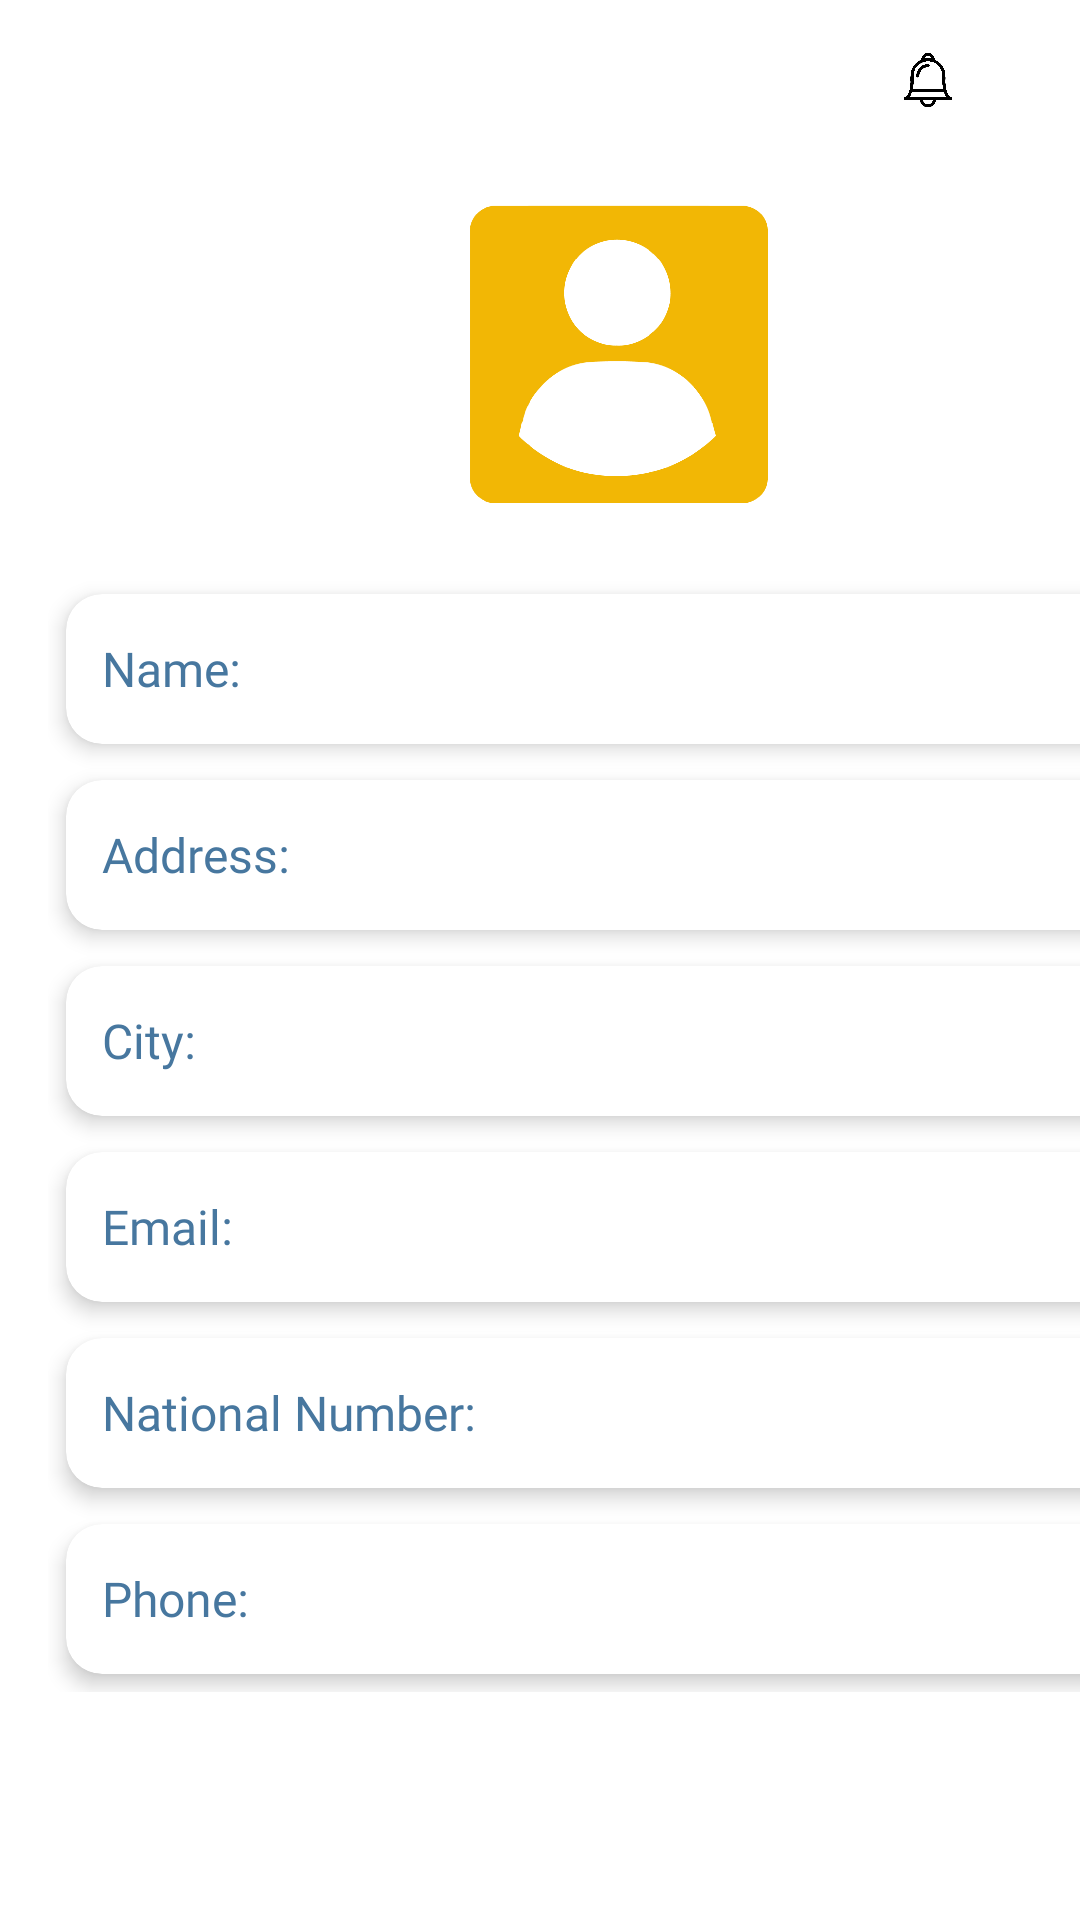

Locate icon controls on the screen. Image size 1080×1920, boxes as (x1, y1, x2, y2).
bellicon: (904, 53, 952, 107)
